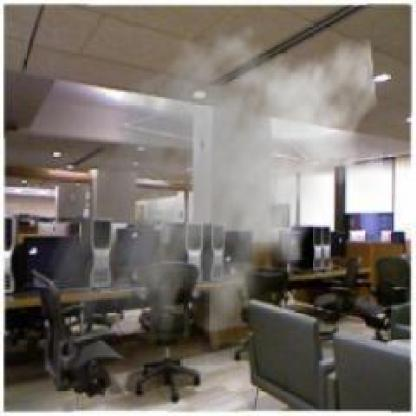Smoke: (45, 13, 387, 374)
